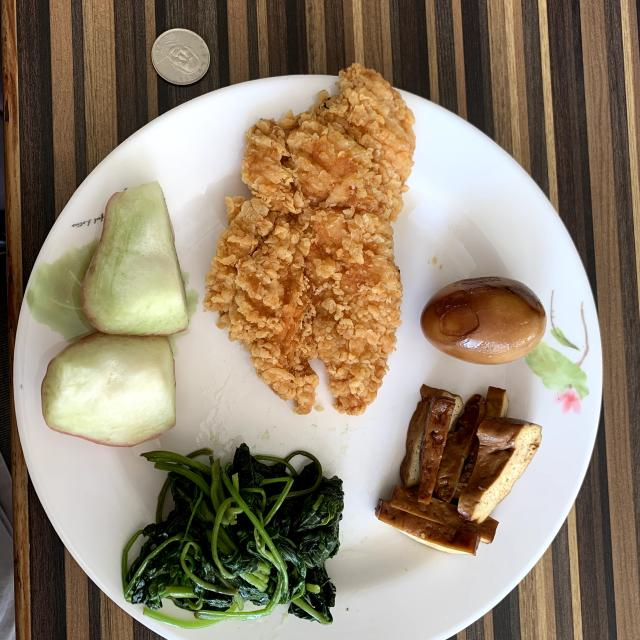coin: (151, 29, 210, 85)
firm tofu: (375, 385, 541, 554)
fried chicken cutlet: (204, 65, 414, 415)
soy egg: (420, 276, 546, 365)
sweet potato leaves: (122, 445, 344, 629)
